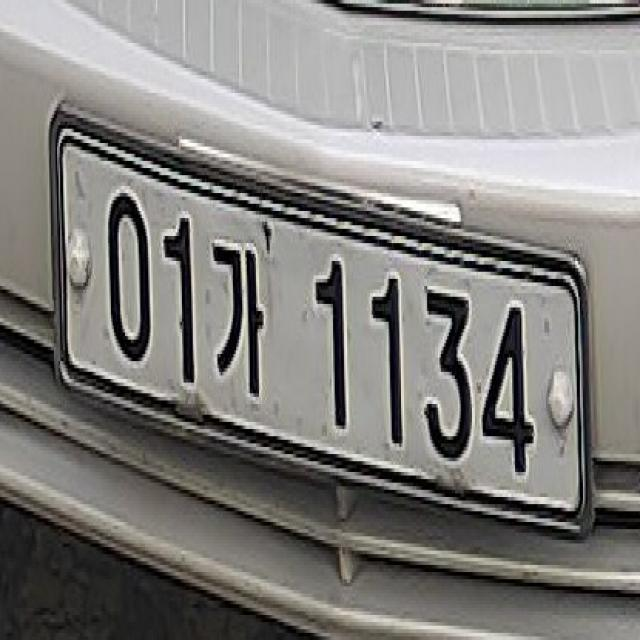0: (101, 173, 156, 383)
1: (159, 198, 200, 399), (310, 249, 352, 444), (366, 267, 408, 459)
3: (419, 288, 476, 469)
4: (479, 291, 544, 488)
ga: (205, 236, 268, 413)
license_plate: (47, 120, 598, 545)
